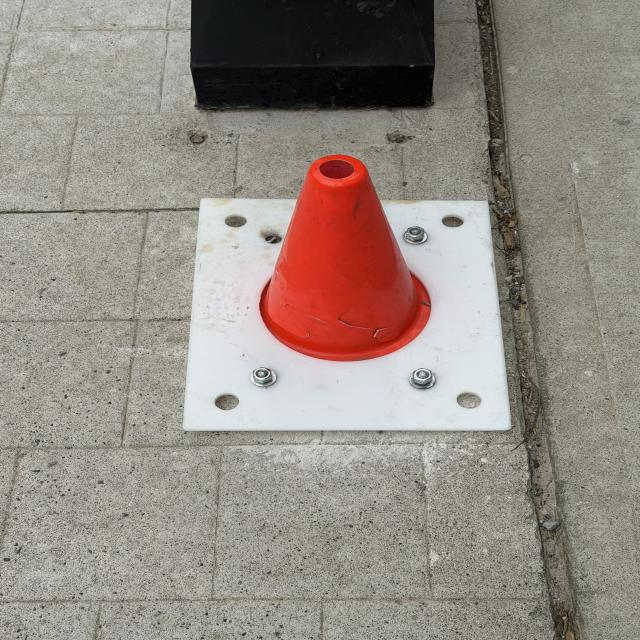Traffic Cone: (257, 155, 437, 363)
